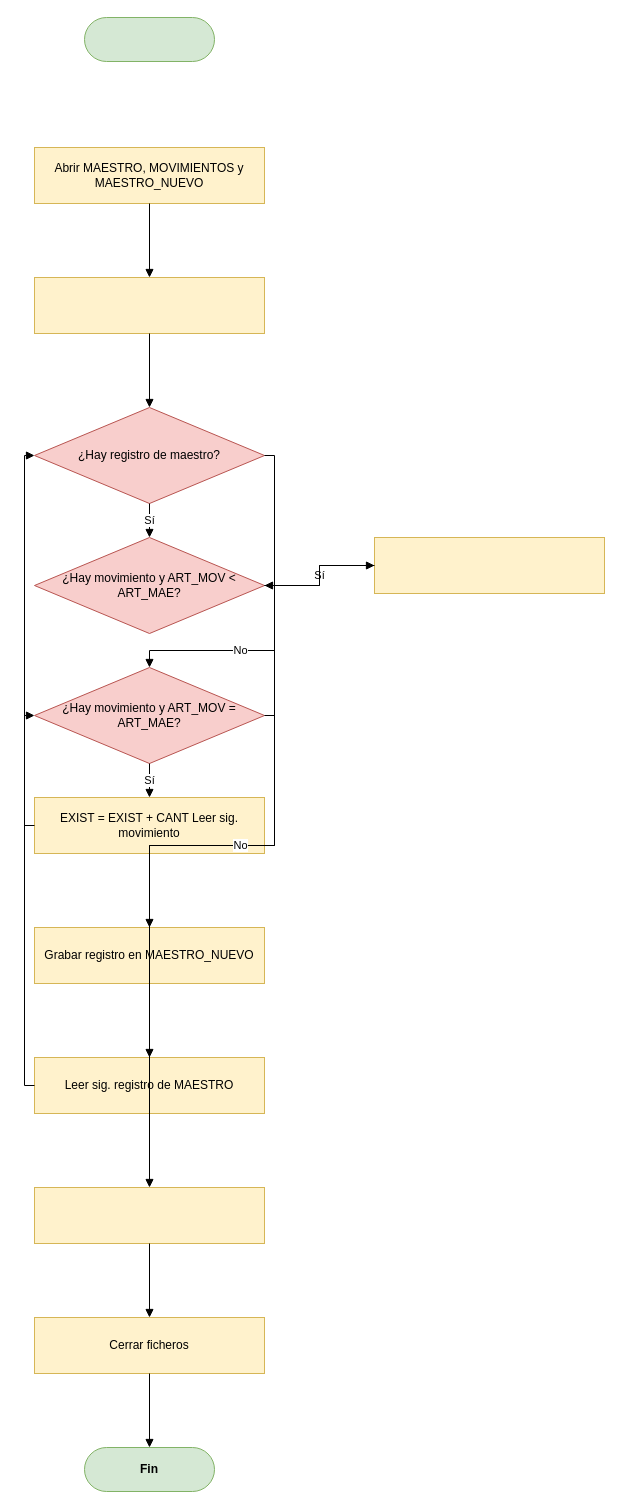
Some shapes in this 622 by 1509 pixel diagram are drawn without their labels. The shapes that lost their labels are listed below. From the top down, each one's box as (x1, y1, x2, y2) in pixels, then its label:
(84, 16, 214, 62): Inicio
(34, 276, 264, 334): Leer 1.er registro de MAESTRO y de MOVIMIENTOS
(374, 536, 604, 594): Avisar: artículo inexistente Leer sig. movimiento
(34, 1186, 264, 1244): Avisar los movimientos restantes (sin maestro)
